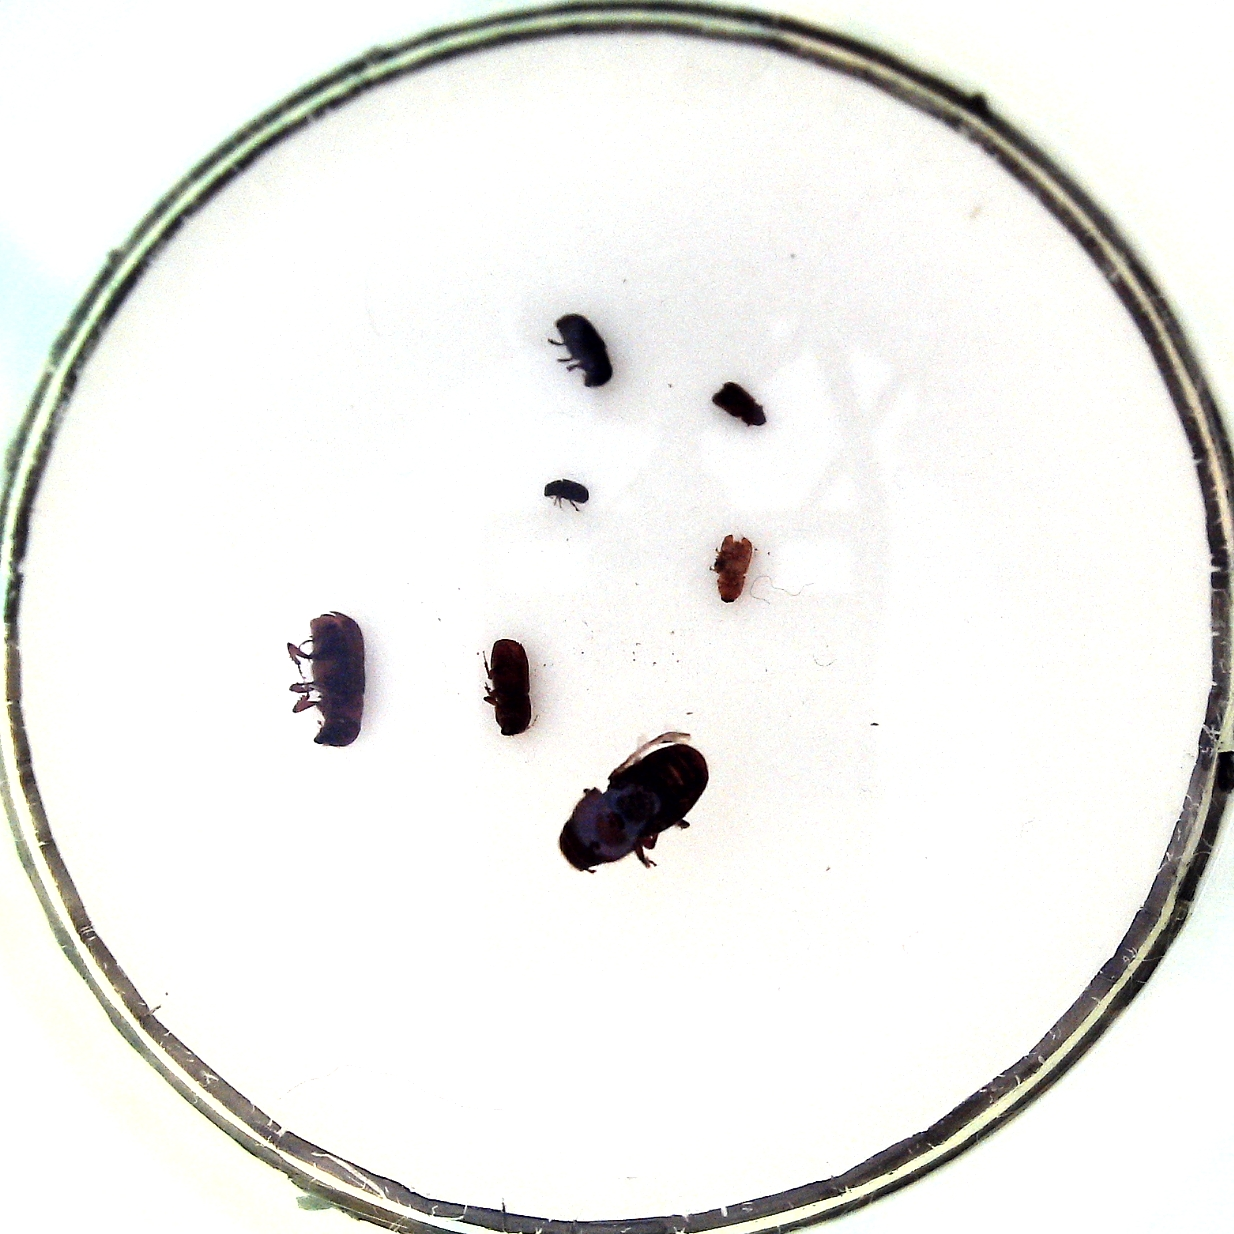Leconte: (560, 742, 709, 871), (308, 612, 365, 747)
acuminatus: (544, 478, 588, 504)
armandi: (554, 312, 612, 389)
coleoptera: (713, 535, 751, 603), (712, 381, 766, 426)
linnaeus: (490, 638, 532, 735)
